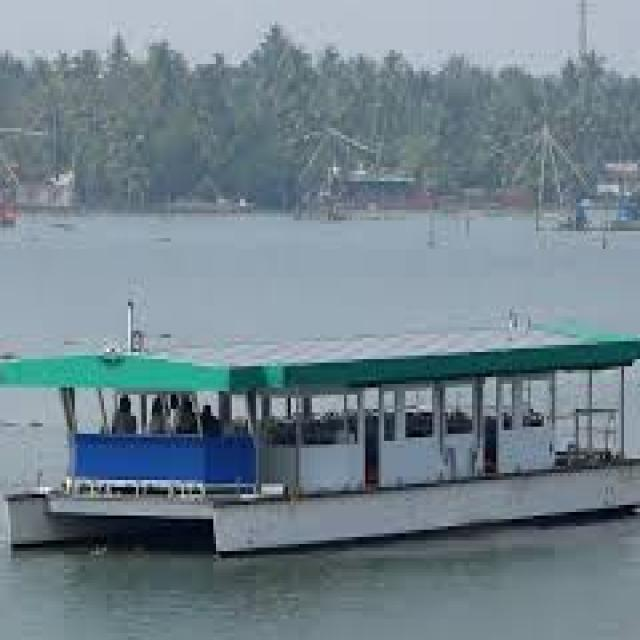houseboat: (0, 299, 640, 565)
